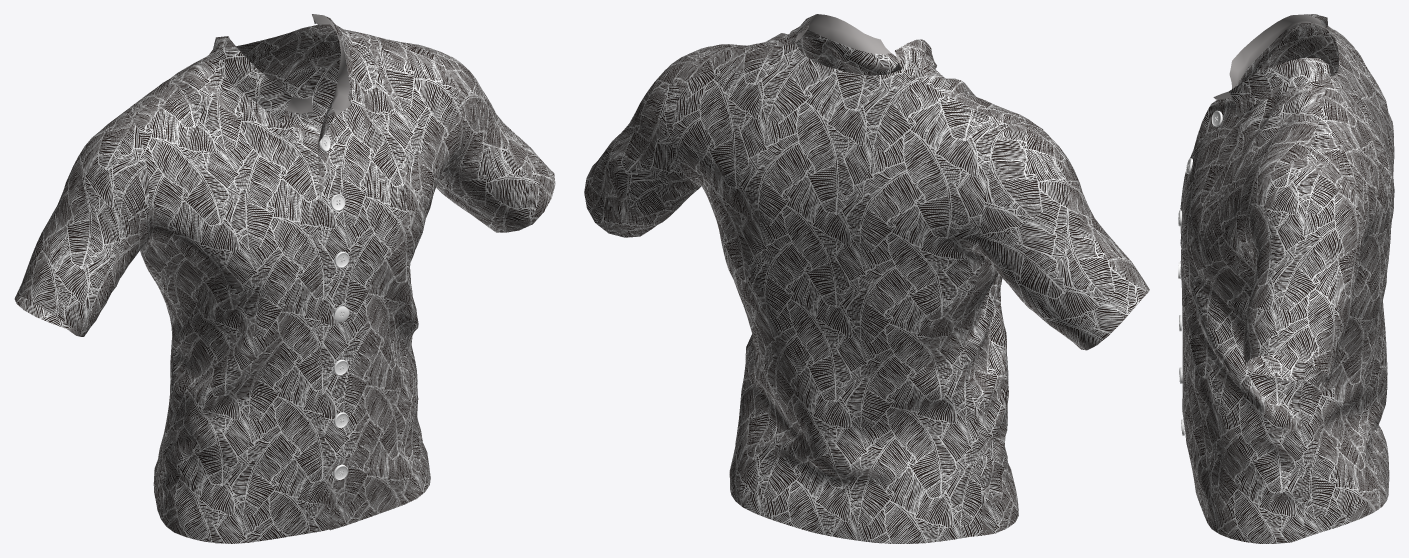
Rendered from Baju_Pendek.fbx.
The picture shows the model from 3 angles, left to right: view 1: azimuth 30°, elevation 25°; view 2: azimuth 150°, elevation 25°; view 3: azimuth 270°, elevation 25°; orthographic projection. The views are drawn at different scales.
Visible parts, largest first — view 1: Baju_Pendek.006; view 2: Baju_Pendek.006; view 3: Baju_Pendek.006.
Part boxes in pixels (x1,y1,x2,y2): Baju_Pendek.006: (14, 14, 555, 543); Baju_Pendek.006: (584, 14, 1149, 543); Baju_Pendek.006: (1178, 14, 1394, 543).
Bounding box in the file's own units: 736 × 619 × 268.
Materials: 4 (2 with a texture image).
